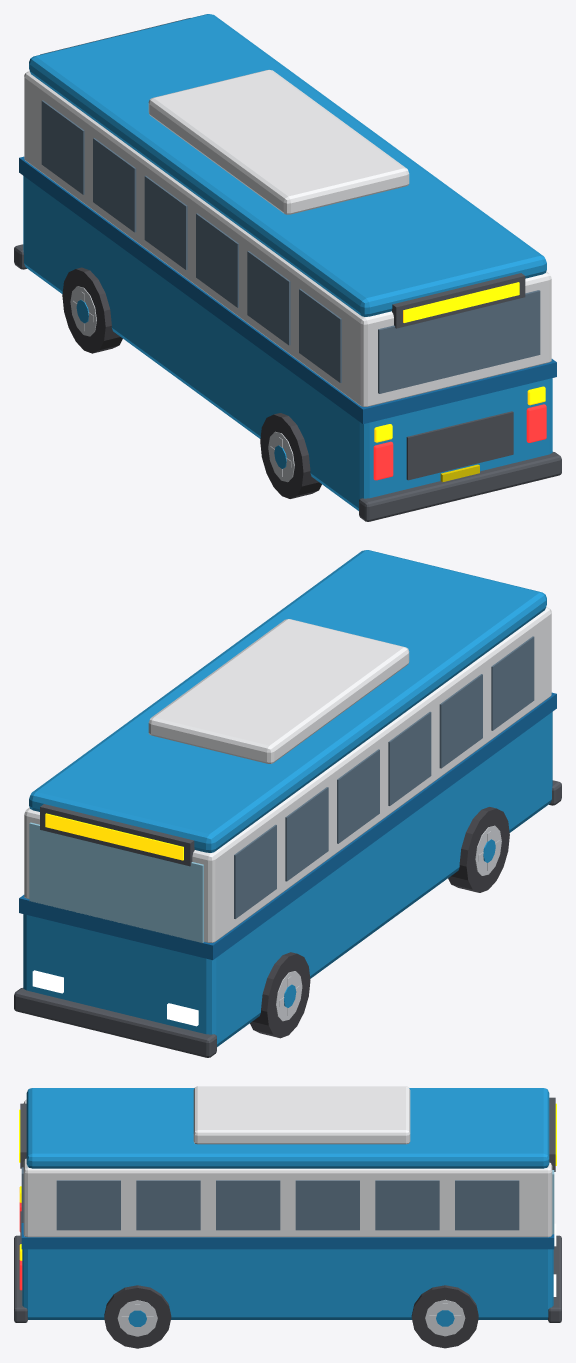
Rendered from bmtc_bus.glb.
3 renders of one model, top to bottom at view 1: azimuth 30°, elevation 25°; view 2: azimuth 150°, elevation 25°; view 3: azimuth 270°, elevation 25°, orthographic. The views are drawn at different scales.
Parts seen in each view (by area): view 1: Bus_Body, Wheel_RL, Wheel_FL; view 2: Bus_Body, Wheel_RL, Wheel_FL; view 3: Bus_Body, Wheel_RR, Wheel_FR.
Boxes of the visible parts, bbox=[...] form: Bus_Body: bbox=[14, 14, 561, 521]; Wheel_RL: bbox=[260, 413, 321, 498]; Wheel_FL: bbox=[62, 267, 122, 353]; Bus_Body: bbox=[14, 550, 561, 1057]; Wheel_RL: bbox=[448, 807, 509, 892]; Wheel_FL: bbox=[250, 952, 310, 1038]; Bus_Body: bbox=[14, 1086, 561, 1322]; Wheel_RR: bbox=[104, 1285, 171, 1348]; Wheel_FR: bbox=[411, 1285, 478, 1348].
Size of the model in its own units: 2.68 by 3.18 by 7.84.
